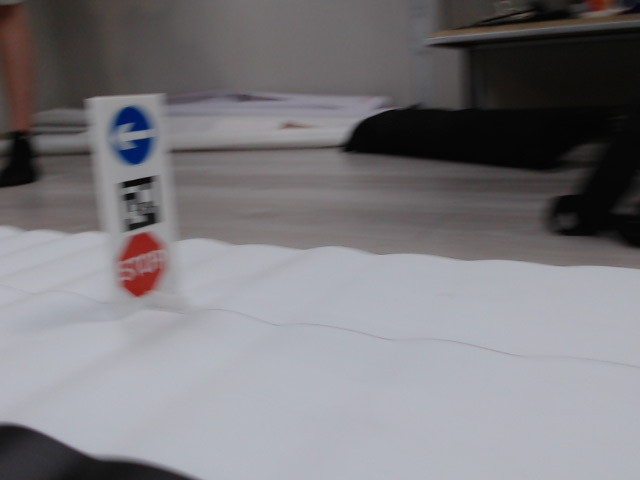Stop: (115, 233, 167, 294)
